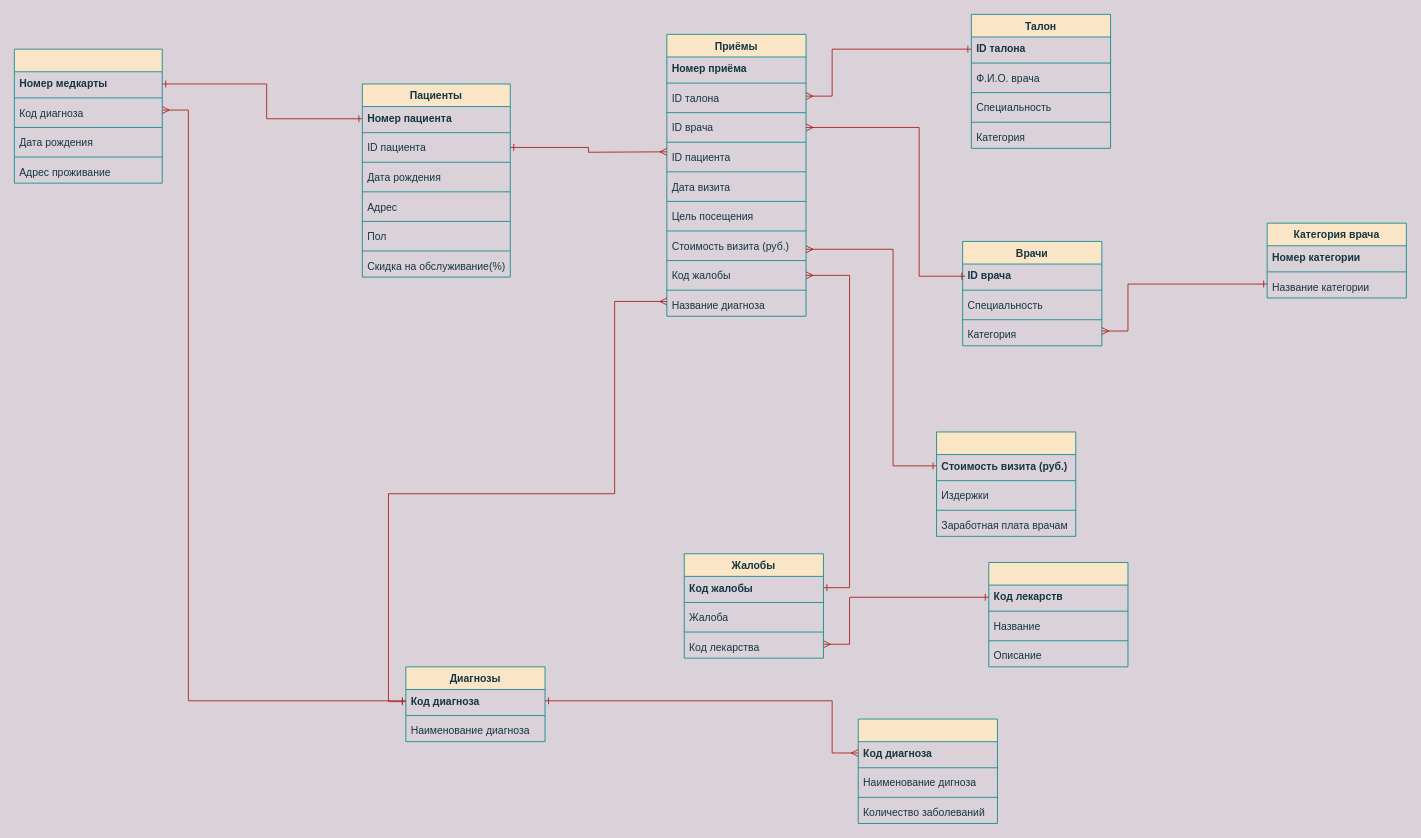
Image size: 1421x838. Some labels were removed from this diagram. Each missing label, with the box of its shape:
Выручка и прибыль: (936, 431, 1076, 536)
Заболевание пациентов: (857, 718, 997, 823)
Медкарта: (13, 48, 162, 183)
Список лекарств: (988, 562, 1128, 667)
